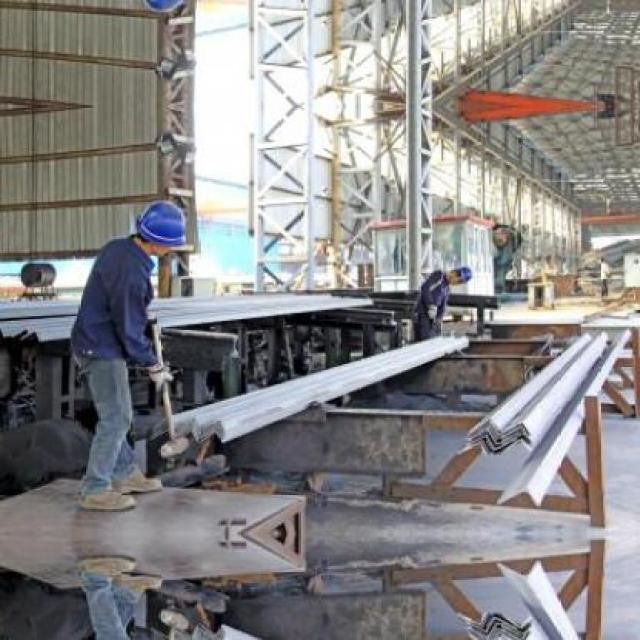helmet: (132, 196, 192, 256), (131, 0, 192, 17), (443, 262, 477, 290)
